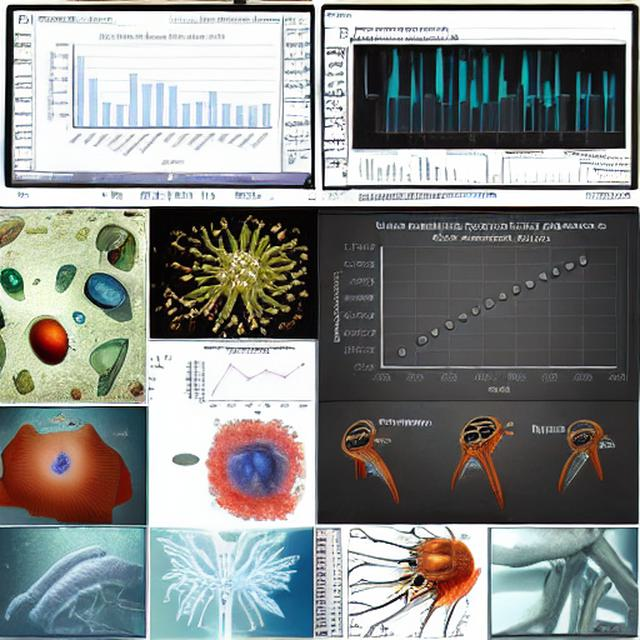Graph: (318, 216, 629, 402), (46, 32, 276, 166), (186, 343, 314, 417), (355, 153, 406, 183)
